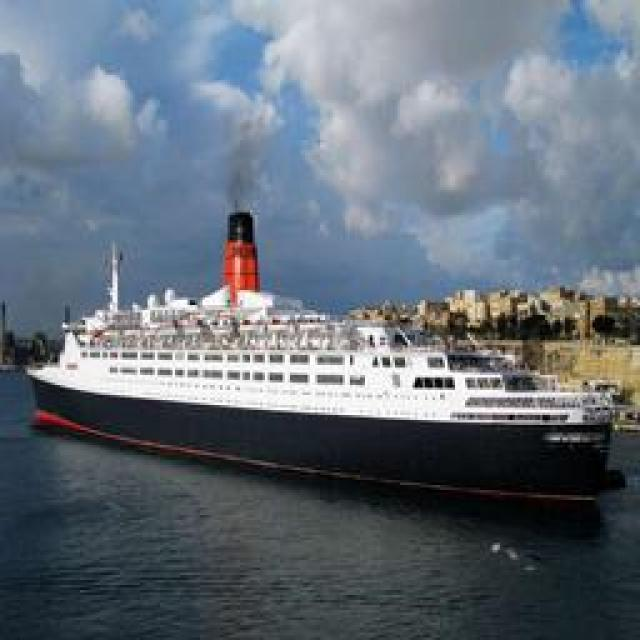ship2: (26, 212, 626, 514)
